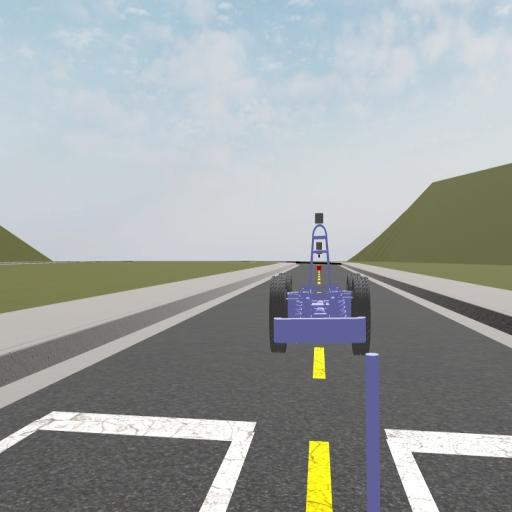ERP-42: (269, 211, 370, 356)
